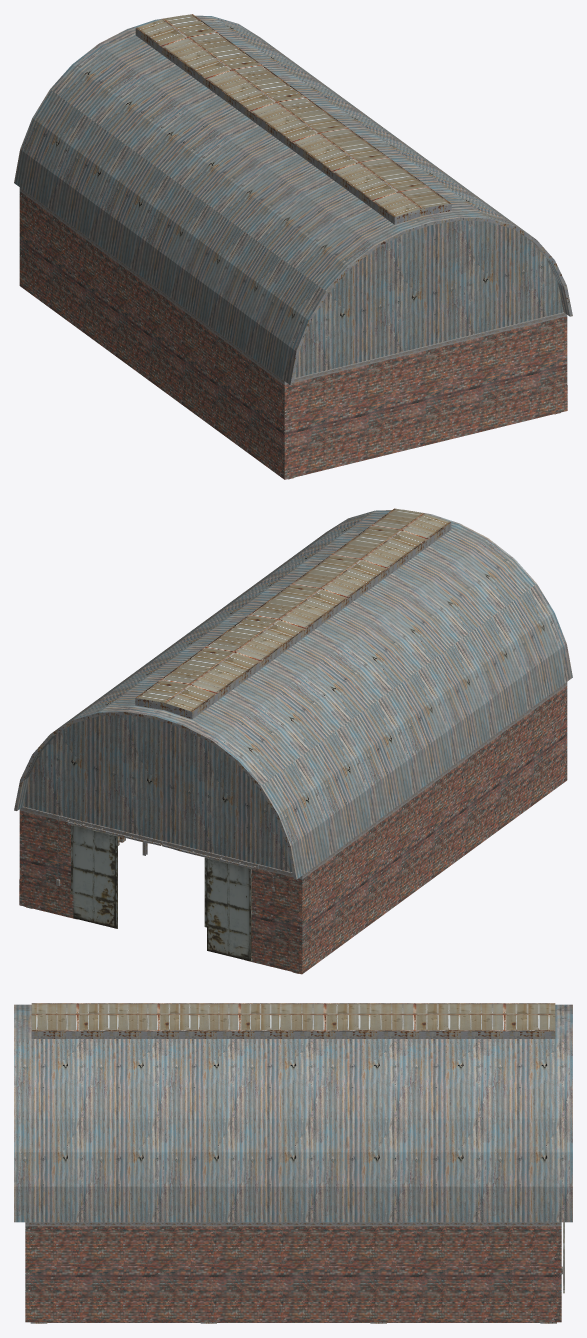
The model's file is building_6.DAE.
The picture shows the model from 3 angles, top to bottom: view 1: azimuth 30°, elevation 25°; view 2: azimuth 150°, elevation 25°; view 3: azimuth 270°, elevation 25°; orthographic projection.
Visible parts, largest first — view 1: Mesh_Object; view 2: Mesh_Object; view 3: Mesh_Object.
Part boxes in pixels (x1=…): Mesh_Object: x1=14, y1=14, x2=572, y2=479; Mesh_Object: x1=14, y1=508, x2=572, y2=974; Mesh_Object: x1=14, y1=1003, x2=572, y2=1323.
Size of the model in its own units: 12.55 by 10.26 by 21.23.
